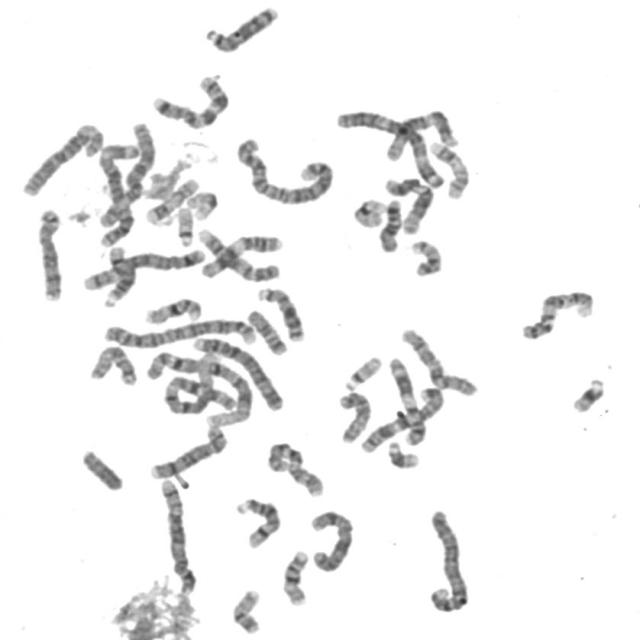A1: (144, 346, 258, 426), (146, 346, 253, 422)
A2: (232, 132, 338, 206), (100, 313, 260, 349)
A3: (332, 104, 449, 190), (94, 136, 144, 247)
B4: (191, 333, 288, 413), (424, 505, 473, 614)
B5: (78, 243, 208, 292), (155, 472, 199, 596)
C10: (396, 322, 482, 398), (264, 436, 328, 500)
C11: (385, 352, 429, 448), (202, 233, 290, 278)
C12: (383, 104, 461, 162), (380, 171, 438, 236)
C6: (96, 115, 158, 235), (18, 117, 108, 198)
C7: (357, 381, 448, 454), (148, 70, 233, 130)
C8: (146, 421, 231, 481), (32, 202, 67, 304)
C9: (196, 227, 284, 281), (517, 284, 598, 342)
D13: (201, 1, 282, 54), (252, 282, 308, 343)
D14: (232, 493, 284, 550), (99, 240, 139, 309)
D15: (85, 340, 141, 387), (334, 386, 375, 444)
E16: (140, 292, 206, 327), (279, 546, 312, 607)
E17: (141, 173, 202, 226), (425, 136, 472, 200)
E18: (244, 304, 290, 357), (376, 196, 406, 253)
F19: (349, 193, 389, 229), (184, 185, 222, 222)
F20: (228, 584, 265, 636), (407, 235, 446, 278)
G21: (568, 372, 610, 415), (383, 436, 423, 470)
G22: (340, 351, 386, 392), (173, 202, 197, 248)
X: (306, 505, 358, 574)
Y: (77, 444, 128, 492)
